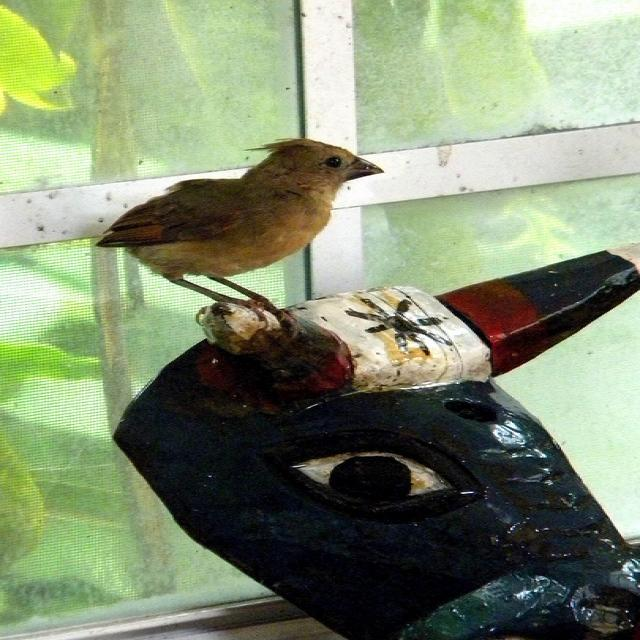cow: (106, 241, 638, 639)
